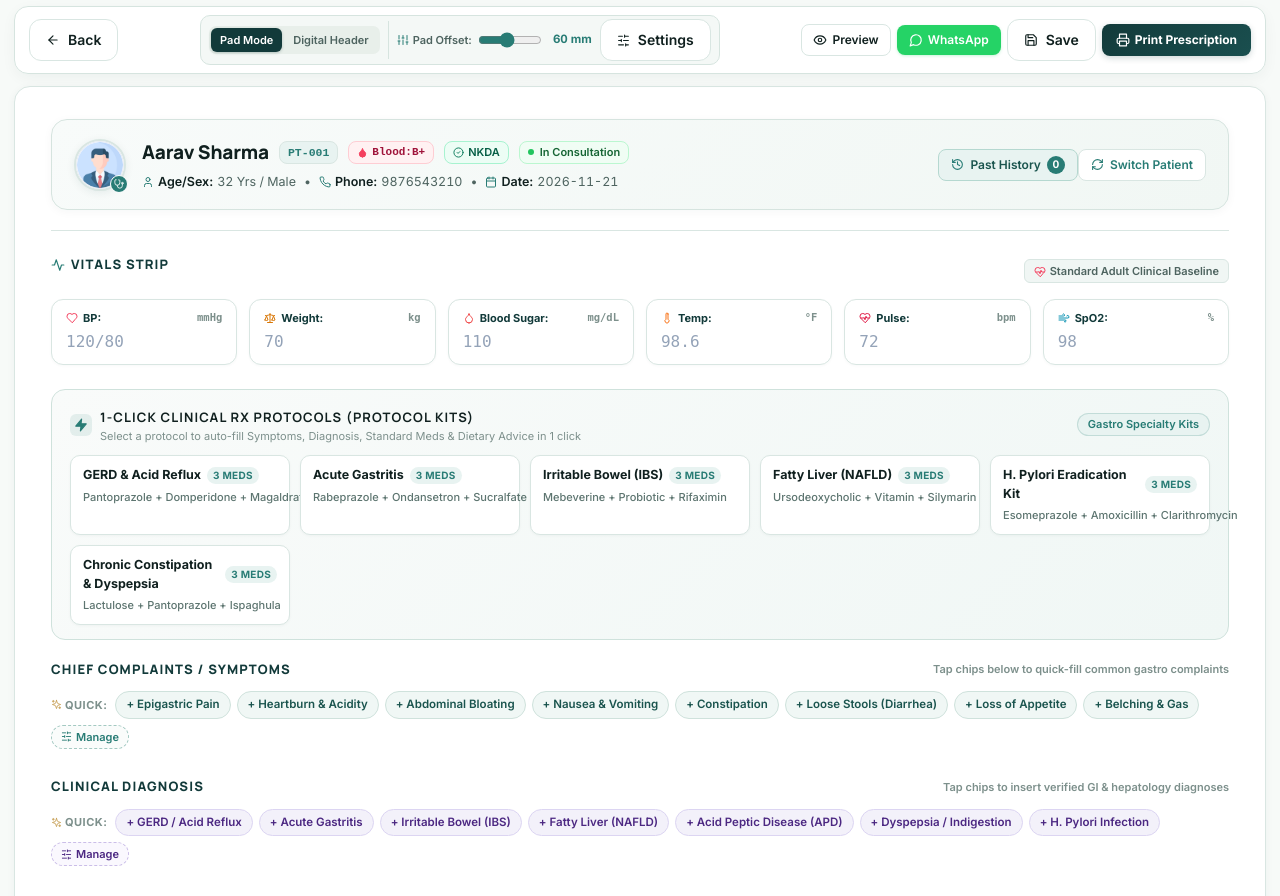
Test case: Prescription Studio Clinical Quick Chips Management › deletes a chip from modal and updates quick list
The width and height of the screenshot is (1280, 896).
Later steps or results of the test are not shown.
Click the button titled "Manage Symptoms Quick Chips" below "Chief Complaints / Symptoms" at [90, 737], box [51, 724, 129, 749]
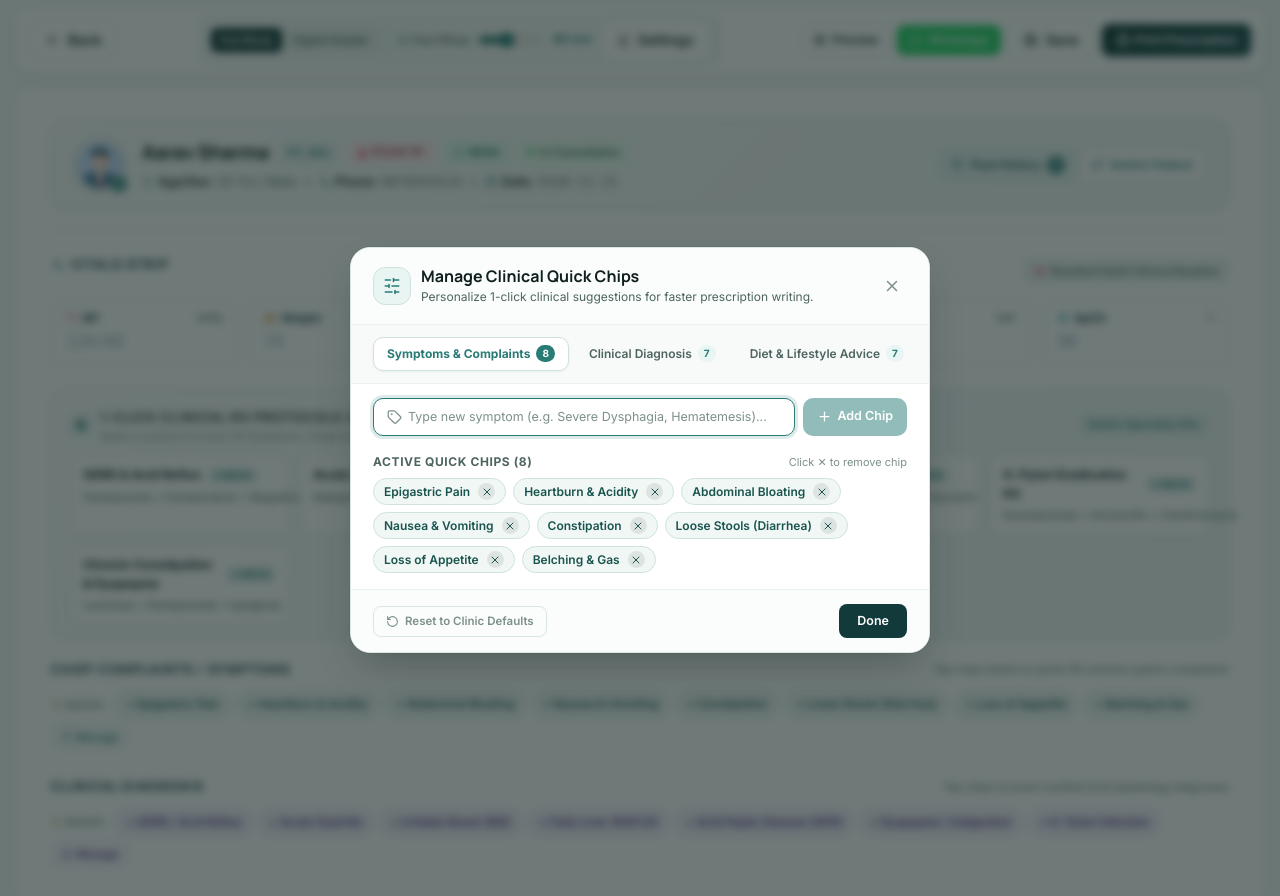
Check: the text "Belching & Gas" is shown, box [533, 552, 620, 567]
